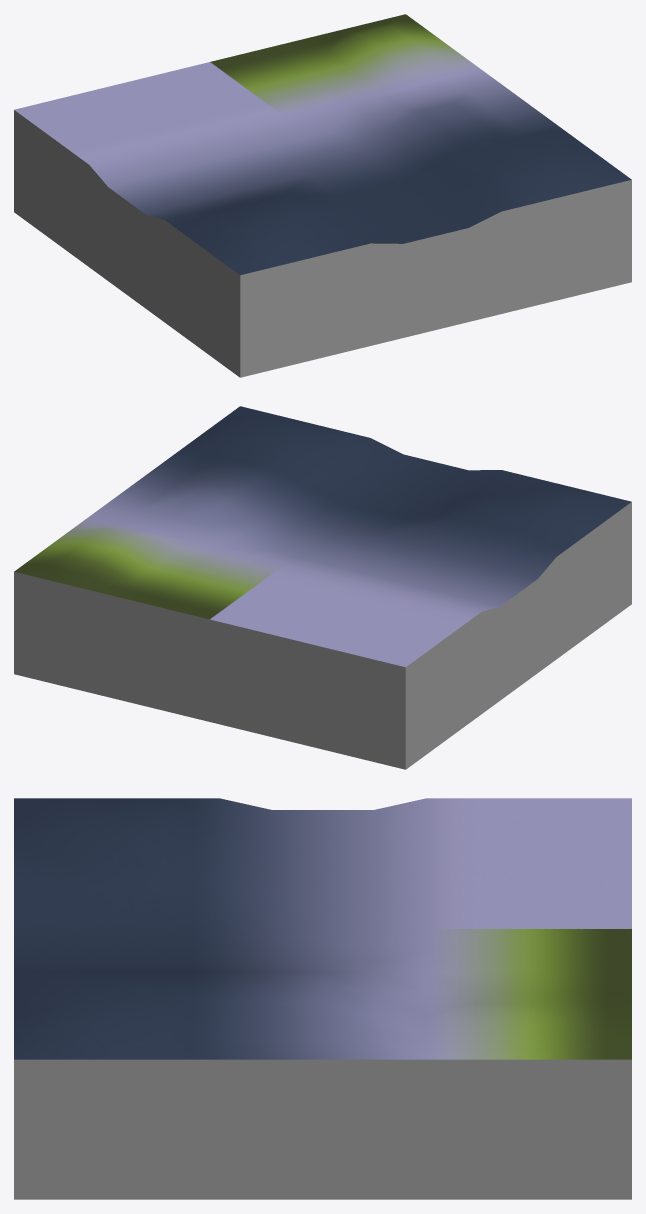
File: PathHillCorner.fbx
3 views of the same model, one above another, from view 1: azimuth 30°, elevation 25°; view 2: azimuth 150°, elevation 25°; view 3: azimuth 270°, elevation 25° (orthographic). The views are drawn at different scales.
Parts seen in each view (by area): view 1: PathHillCorner; view 2: PathHillCorner; view 3: PathHillCorner.
Boxes of the visible parts, bbox=[...] form: PathHillCorner: bbox=[14, 14, 631, 377]; PathHillCorner: bbox=[14, 406, 631, 769]; PathHillCorner: bbox=[14, 798, 631, 1199].
Size of the model in its own units: 1200 by 329 by 1200.
